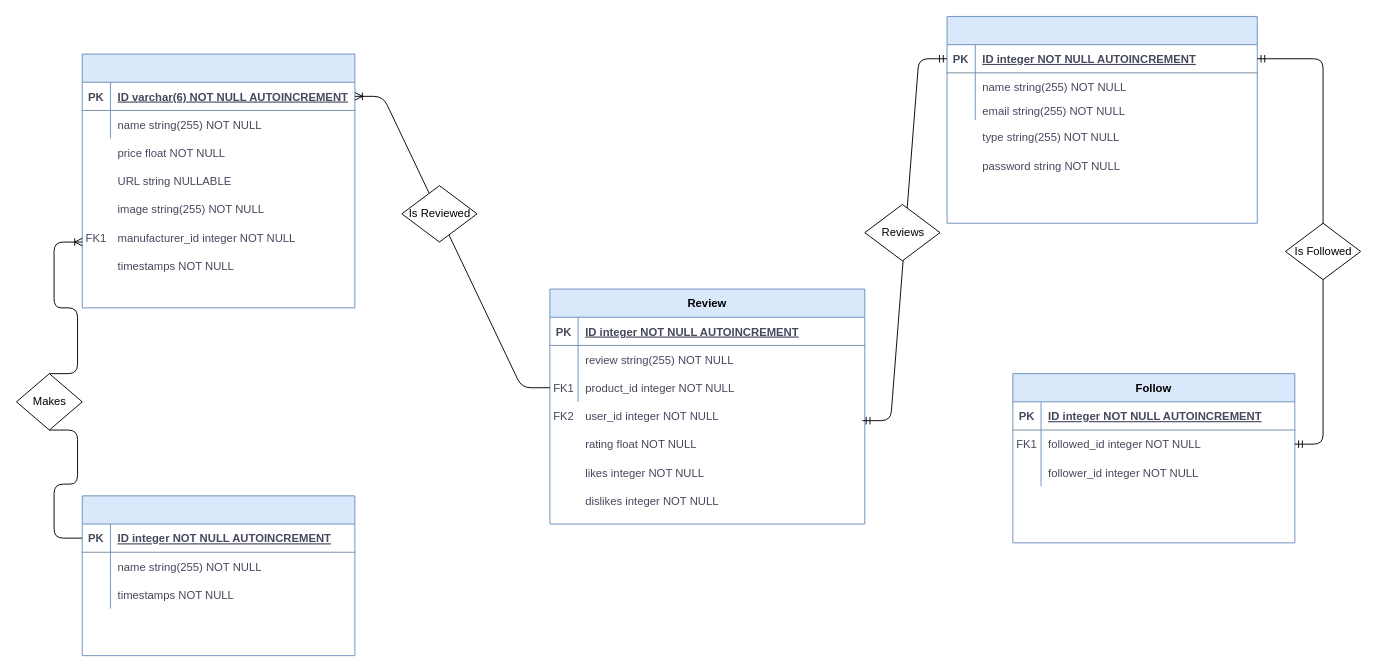
Image size: 1377x672. Some labels were removed from this diagram. The box of each missing label's shape, as (x1, y1, x2, y2) in pixels:
Manufacturer: (81, 495, 355, 656)
Product: (81, 53, 355, 308)
User: (946, 16, 1257, 223)
